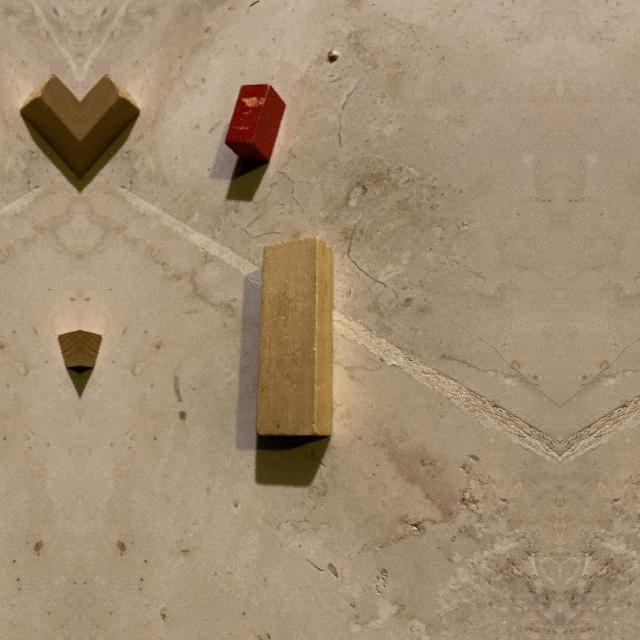cube: (80, 329, 102, 367), (58, 329, 80, 367)
jenga: (256, 237, 333, 437), (80, 79, 141, 195), (19, 79, 80, 195)
